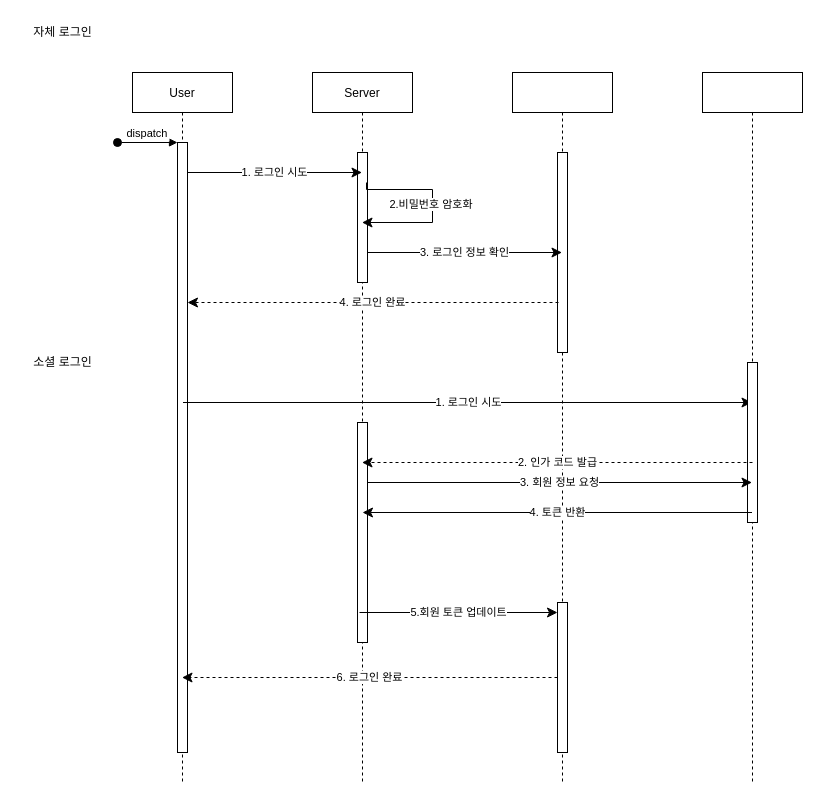
The diagram is 820 pixels wide and 800 high, and some of its shapes have lost their labels. Here are the shapes that lost their labels. From the top down, the box of each, then its label:
(512, 72, 612, 782): DB
(702, 72, 802, 782): 소셜 로그인 API
